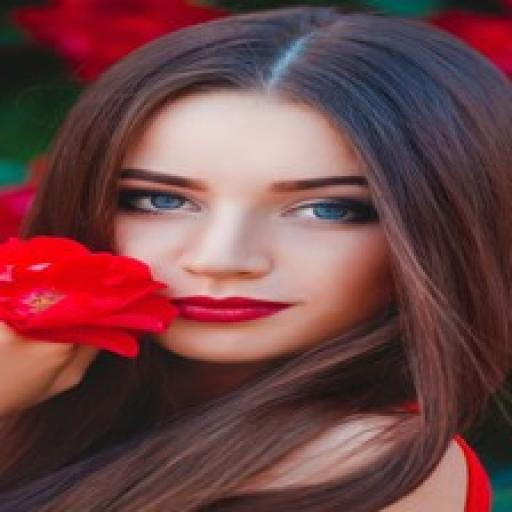human: (25, 2, 512, 512)
